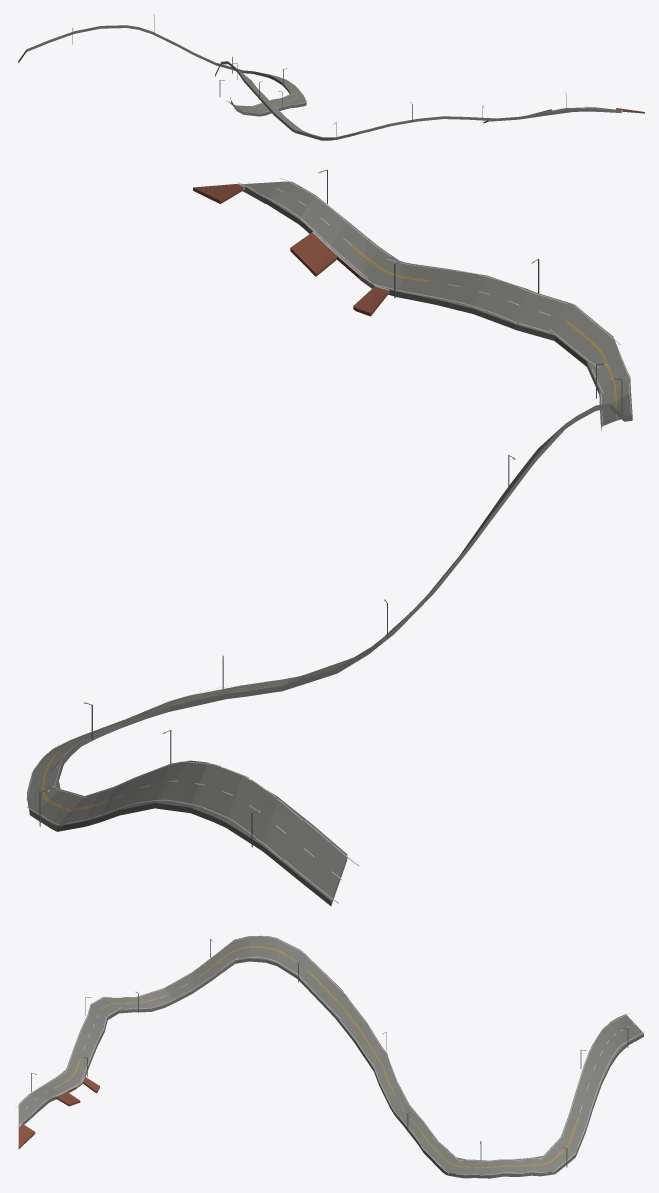
The picture shows the model from 3 angles, top to bottom: view 1: azimuth 30°, elevation 25°; view 2: azimuth 150°, elevation 25°; view 3: azimuth 270°, elevation 25°; orthographic projection. The views are drawn at different scales.
Bounding box in the file's own units: 163 × 62.02 × 223.
